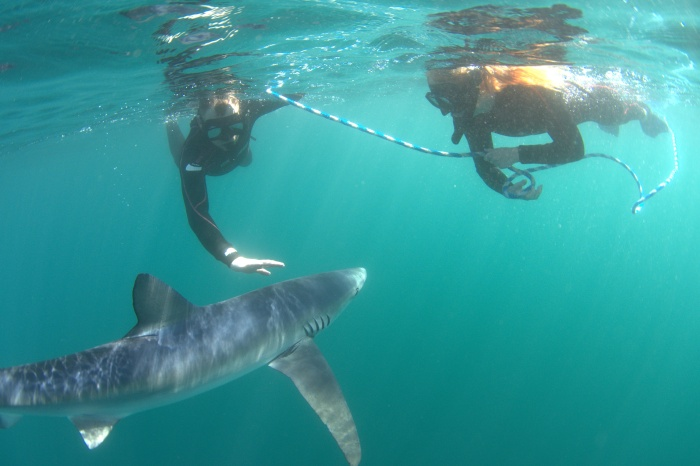Azul: (1, 244, 397, 460)
